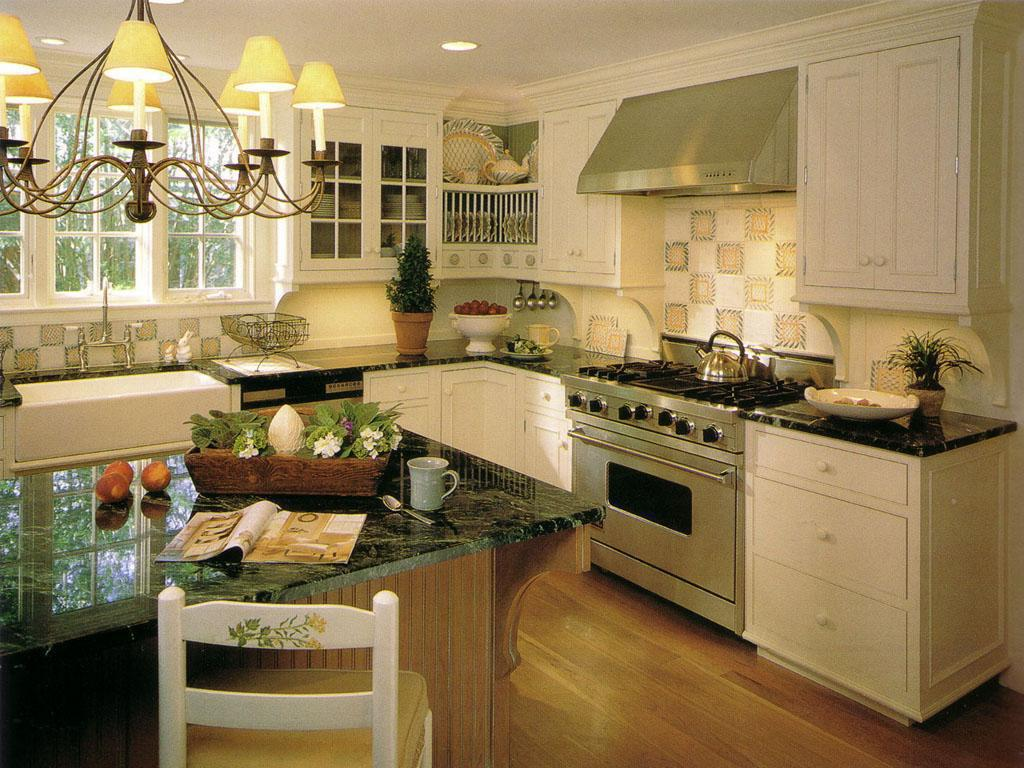Electrodomestico: (563, 385, 753, 644)
